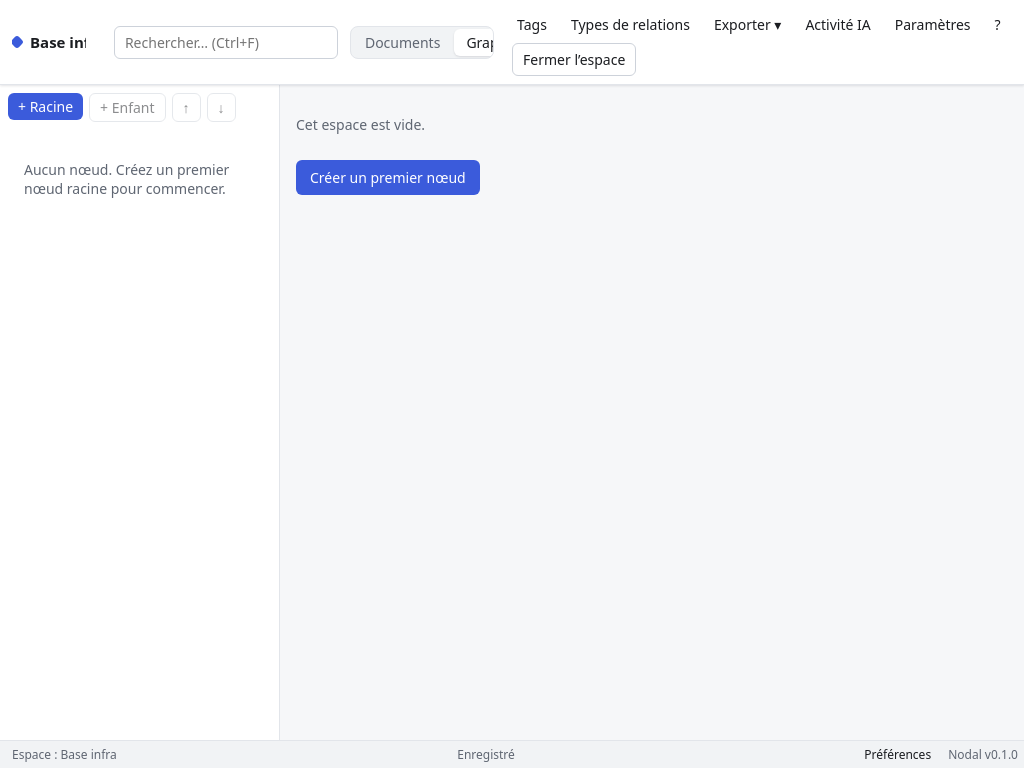
App › revient à l’accueil après fermeture de l’espace
Click the button "Fermer l’espace" at (574, 60), box [512,43,636,76]
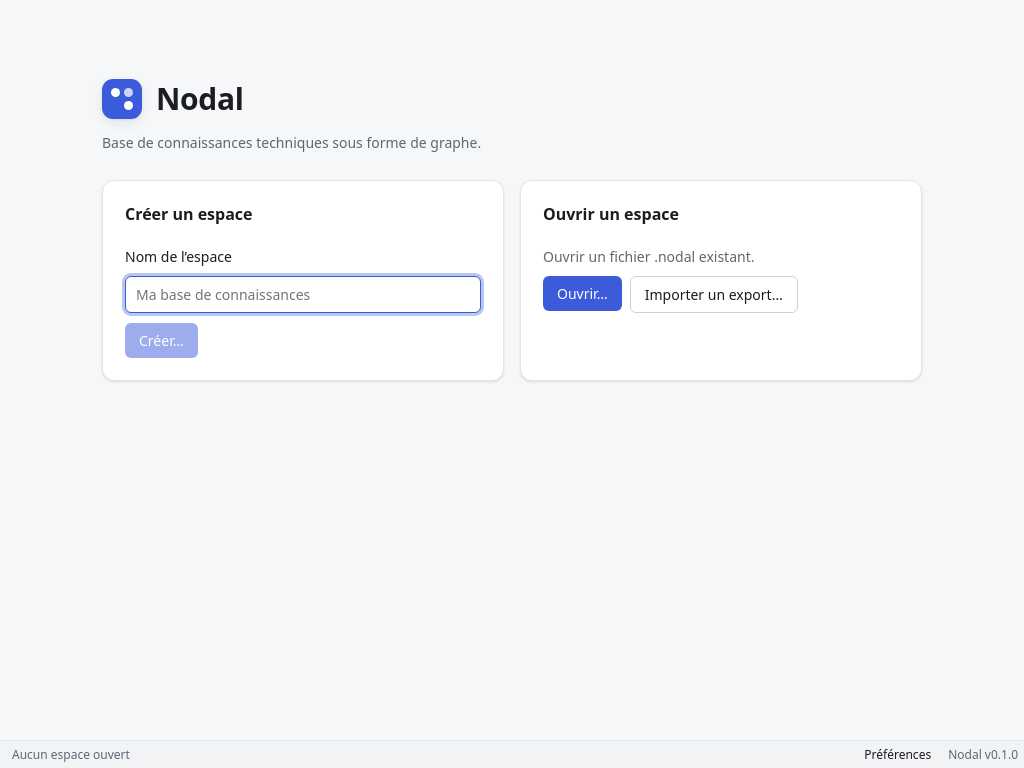
Now the heading "Créer un espace" is shown, box [125,203,252,225]
